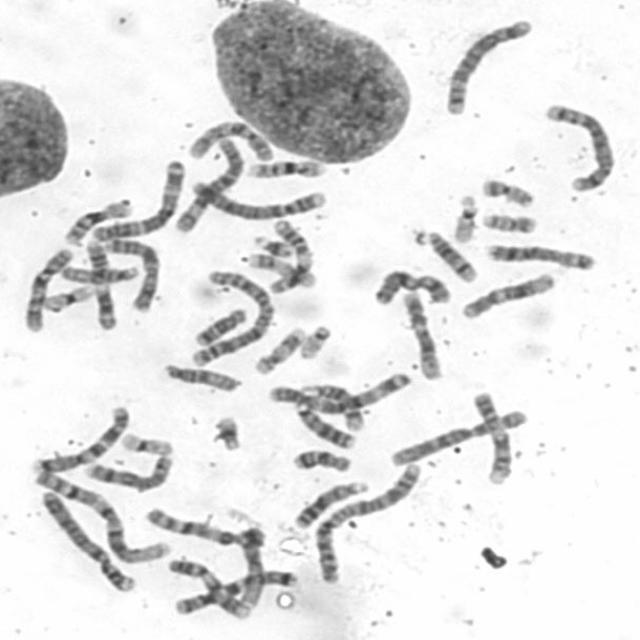A1: (138, 501, 266, 617), (31, 466, 173, 564)
A2: (311, 458, 426, 586), (186, 265, 277, 368)
A3: (88, 154, 189, 242), (264, 366, 414, 413)
B4: (34, 482, 138, 594), (185, 174, 332, 222)
B5: (439, 12, 535, 117), (538, 98, 619, 193)
C10: (19, 242, 76, 334), (184, 116, 278, 162)
C11: (266, 216, 317, 292), (80, 235, 118, 332)
C12: (456, 267, 560, 320), (396, 286, 445, 380)
C6: (383, 403, 530, 468), (170, 133, 249, 234)
C7: (26, 400, 132, 475), (169, 564, 302, 616)
C8: (79, 448, 177, 492), (481, 237, 599, 272)
C9: (162, 553, 252, 621), (467, 386, 515, 486)
D13: (289, 475, 372, 529), (289, 400, 356, 450)
D14: (409, 224, 480, 283), (298, 378, 365, 432)
D15: (158, 358, 244, 393), (55, 259, 142, 285)
E16: (60, 192, 136, 246), (242, 153, 328, 180)
E17: (250, 321, 310, 376), (242, 248, 319, 288)
E18: (189, 302, 250, 347), (288, 443, 356, 474)
F19: (39, 280, 95, 313), (116, 428, 176, 457)
F20: (475, 172, 537, 209), (476, 207, 540, 235)
G21: (207, 410, 244, 453), (250, 230, 296, 258)
G22: (448, 189, 482, 244), (295, 320, 335, 360)
X: (100, 233, 162, 313), (368, 263, 456, 308)
